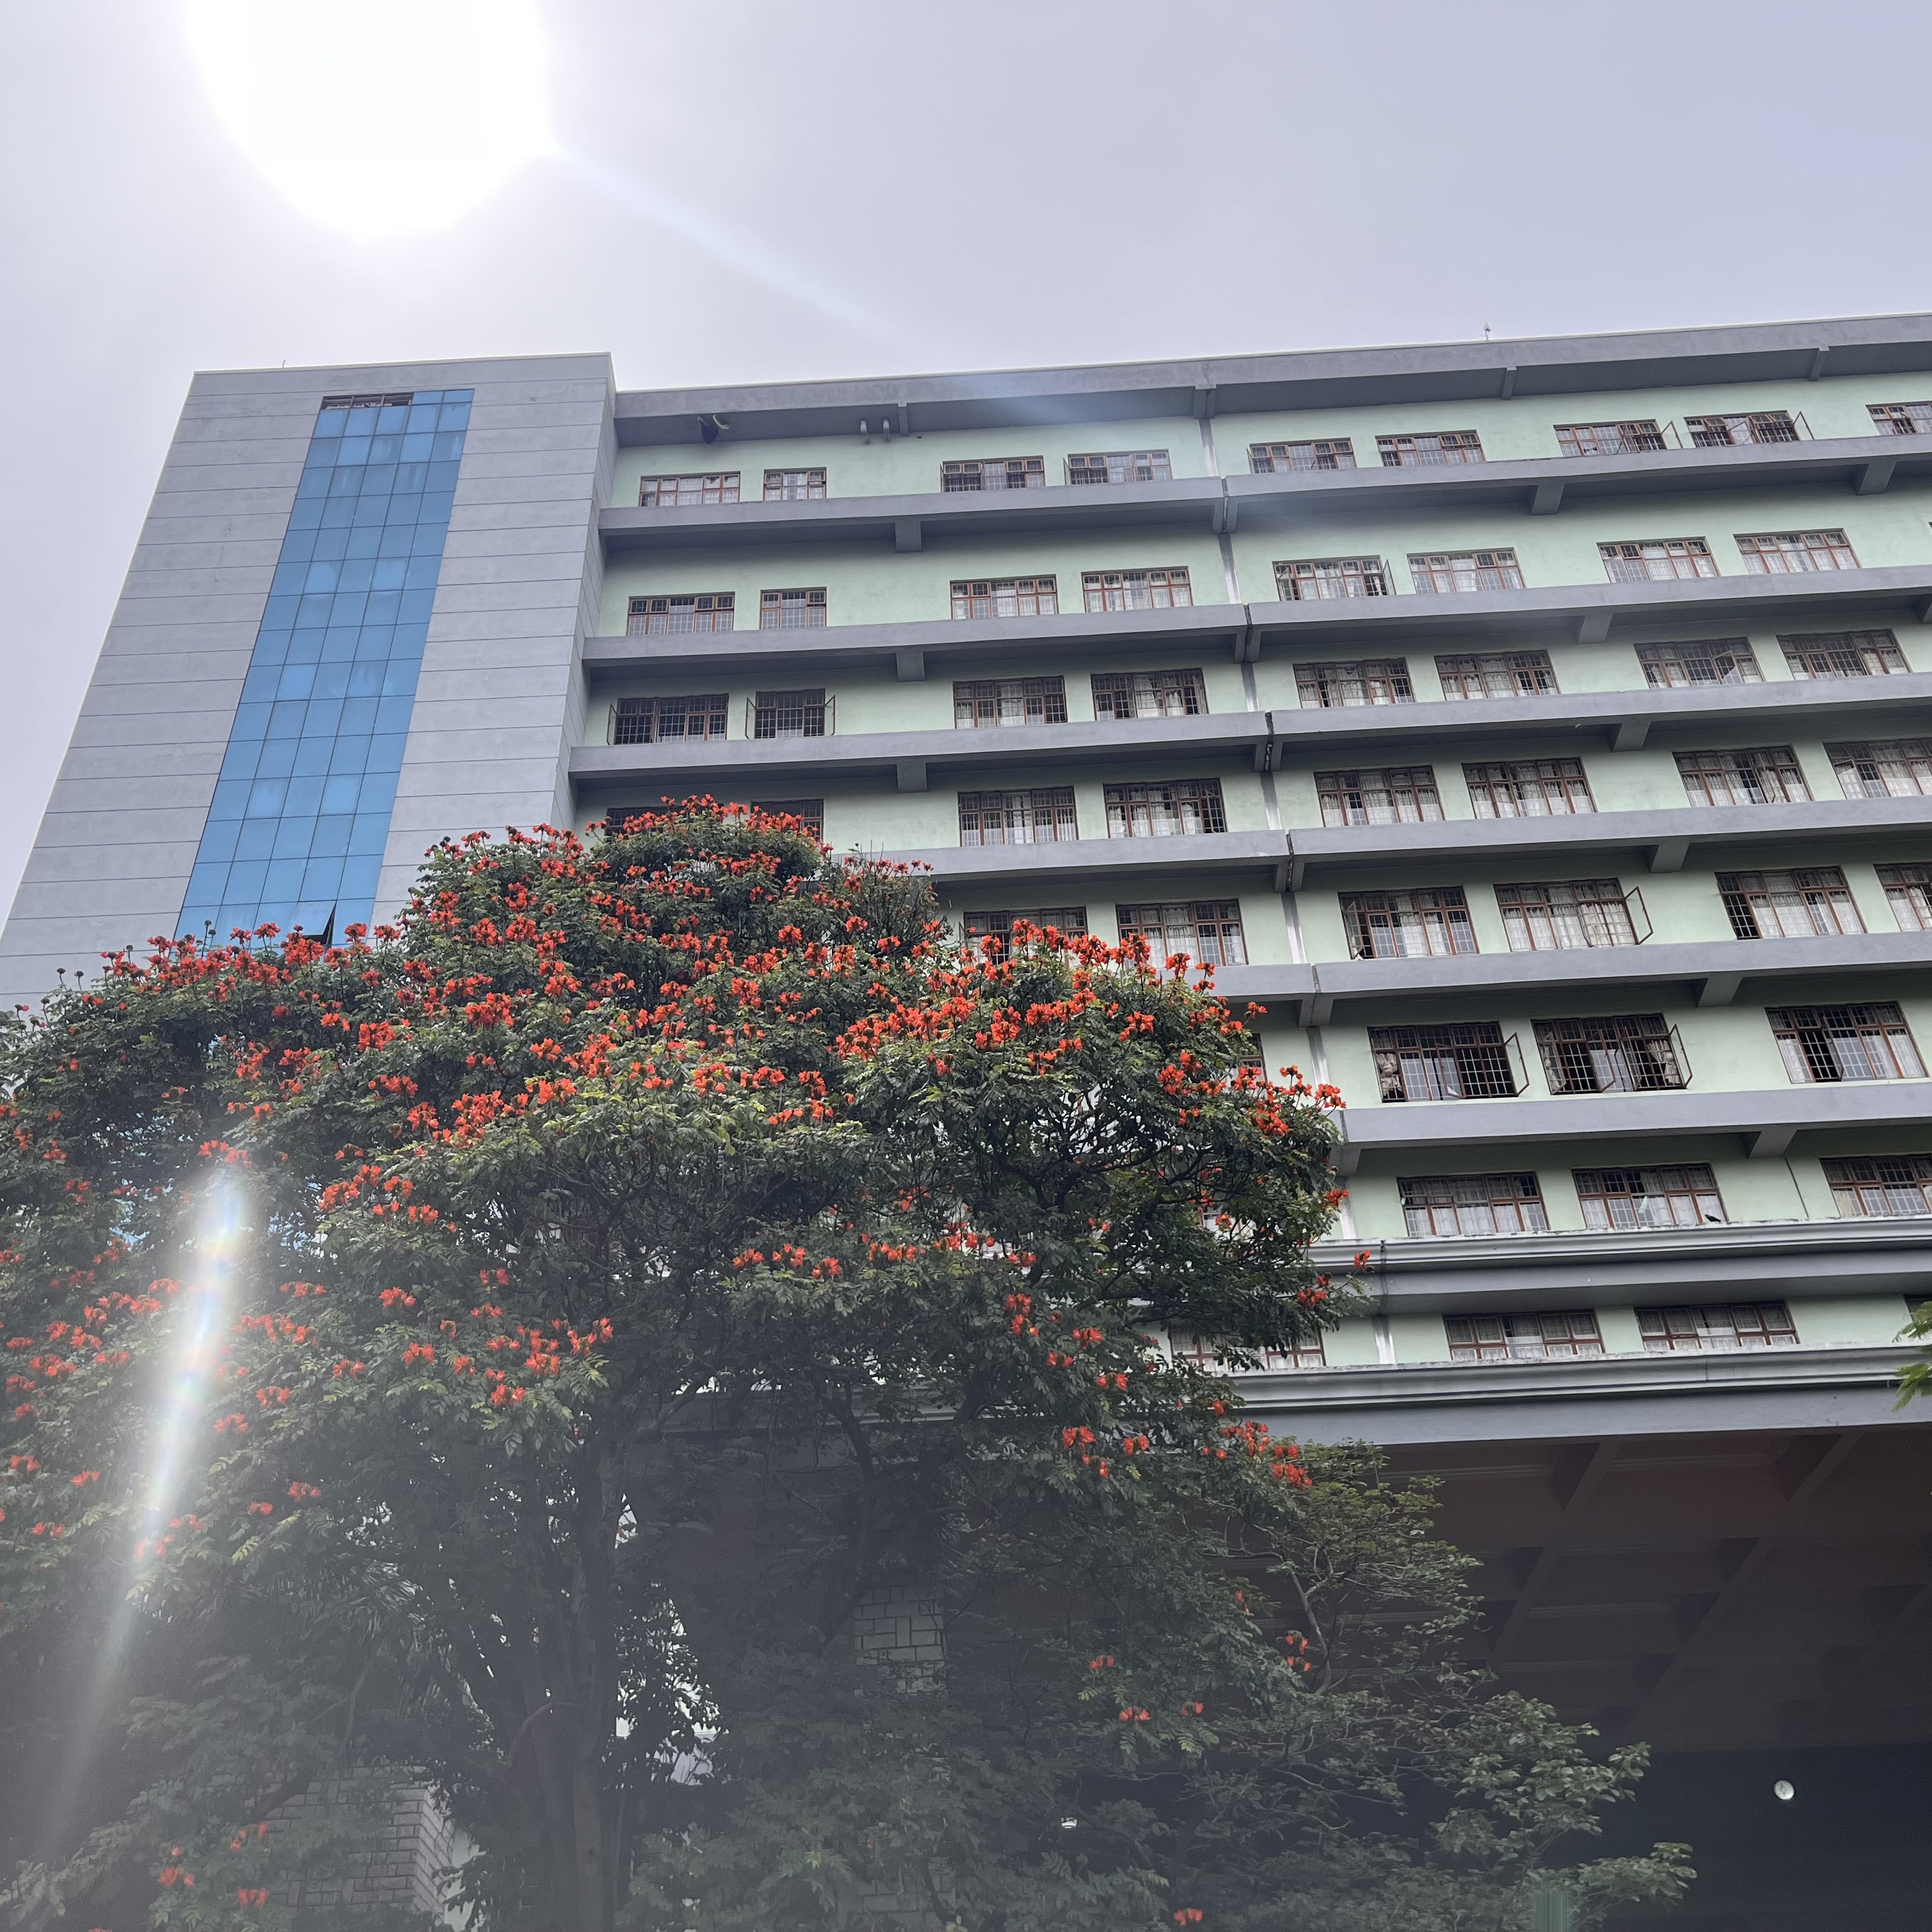Central Block: (90, 311, 1932, 1451)
